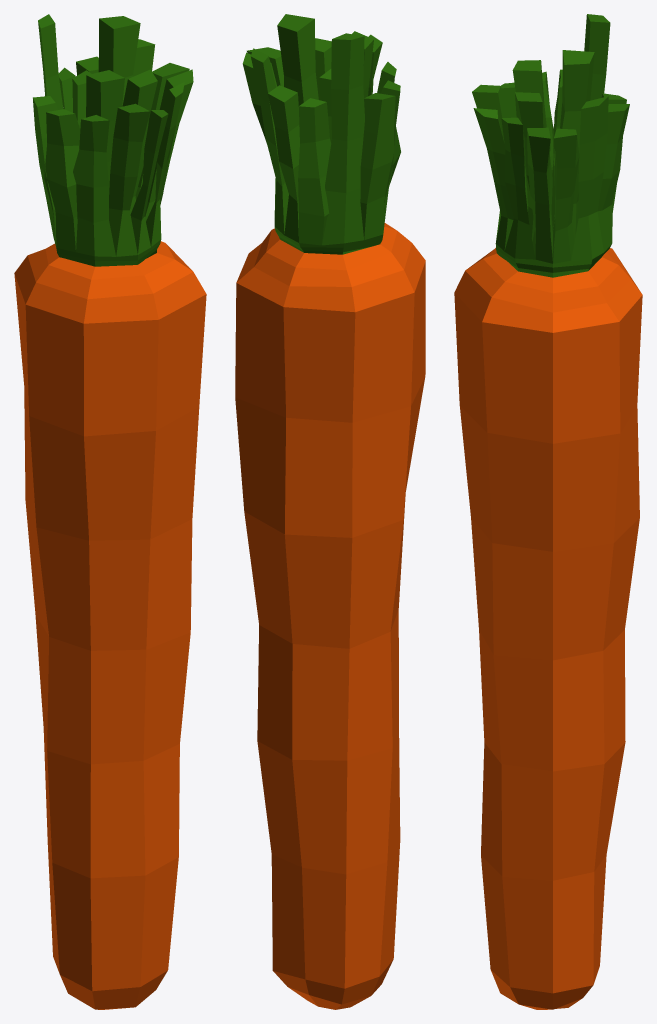
File: Carrot.fbx
3 views of the same model, side by side, from view 1: azimuth 30°, elevation 25°; view 2: azimuth 150°, elevation 25°; view 3: azimuth 270°, elevation 25° (orthographic). The views are drawn at different scales.
Visible parts, largest first — view 1: Cylinder; view 2: Cylinder; view 3: Cylinder.
Boxes of the visible parts, <box> form: Cylinder: <box>14,14,206,1009</box>; Cylinder: <box>235,14,425,1009</box>; Cylinder: <box>454,14,642,1009</box>.
Bounding box in the file's own units: 46.76 × 262 × 46.23.
